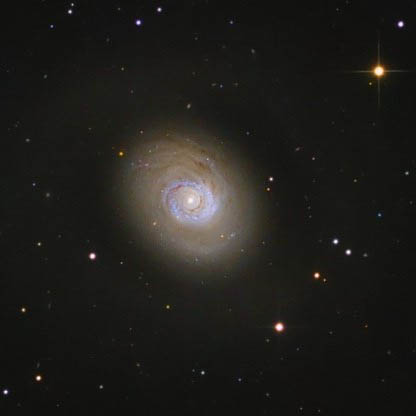Messier 94: (55, 64, 351, 338)
